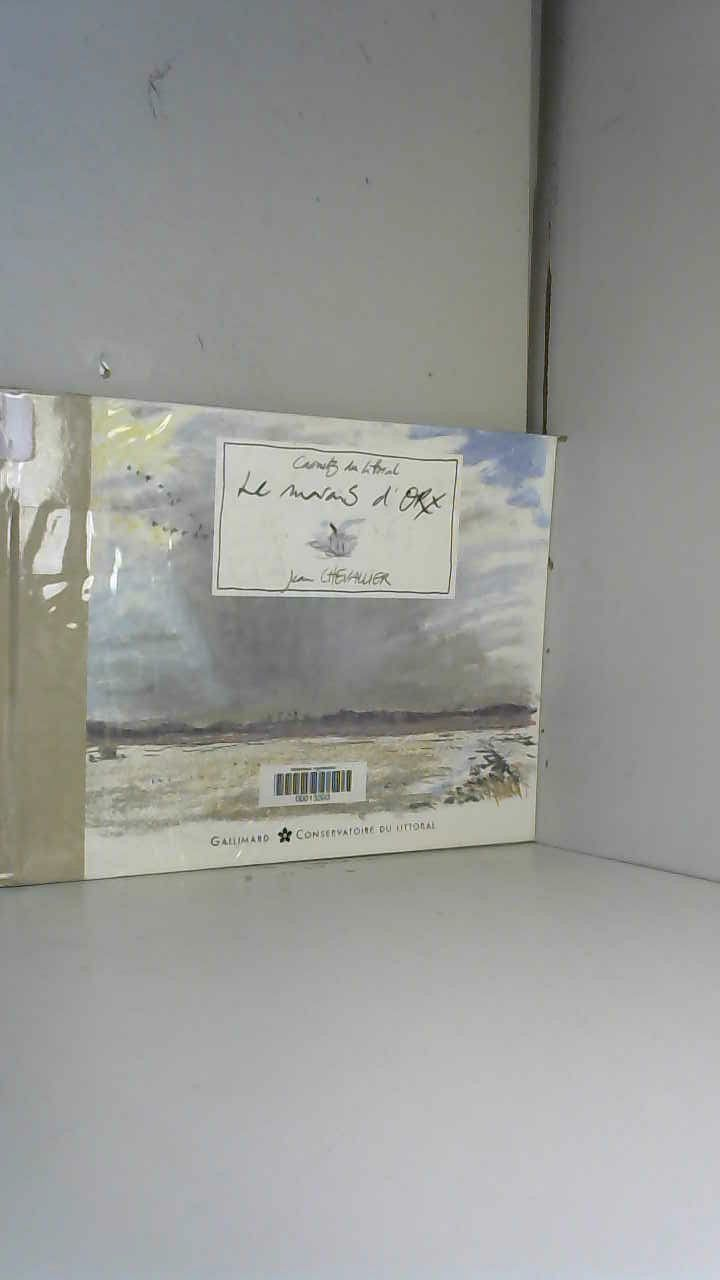book: (0, 364, 587, 906)
